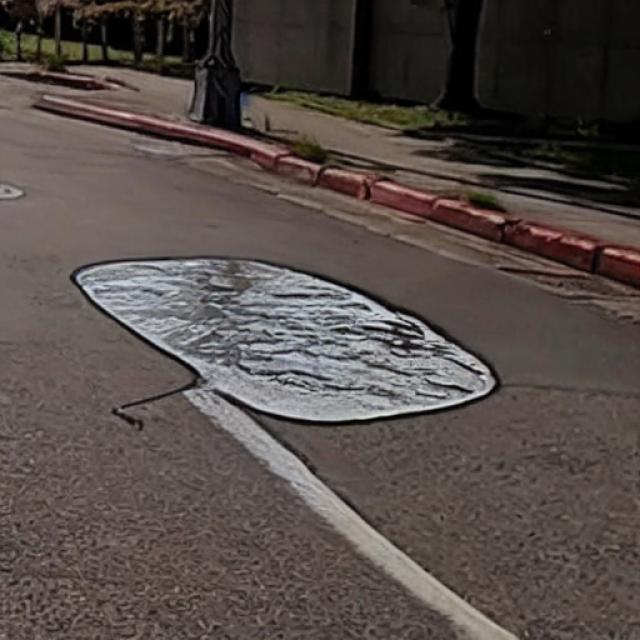puddle: (76, 254, 499, 423)
